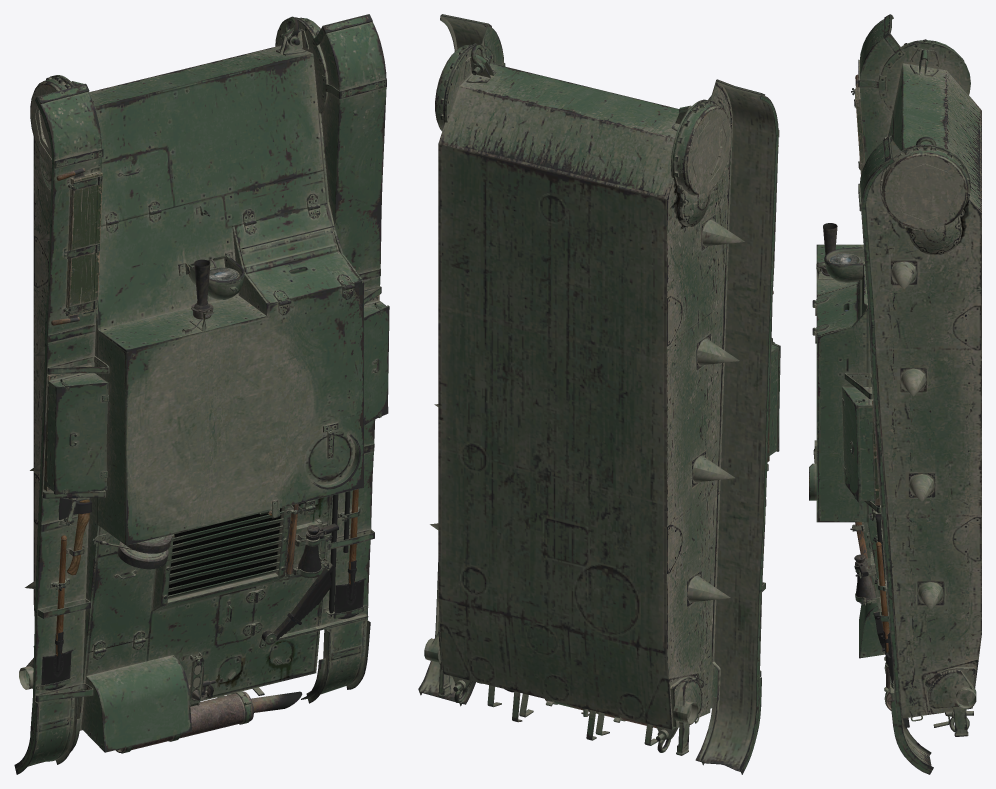
The model's file is Hull.glb.
The picture shows the model from 3 angles, left to right: view 1: azimuth 30°, elevation 25°; view 2: azimuth 150°, elevation 25°; view 3: azimuth 270°, elevation 25°; orthographic projection. The views are drawn at different scales.
Visible parts, largest first — view 1: set_0_group_0; view 2: set_0_group_0; view 3: set_0_group_0.
Boxes of the visible parts, x1,y1,x2,y2 form: set_0_group_0: [14, 14, 389, 774]; set_0_group_0: [418, 14, 780, 774]; set_0_group_0: [809, 14, 981, 774].
Bounding box in the file's own units: 2.33 × 4.63 × 1.17.
Materials: 1 (1 with a texture image).
